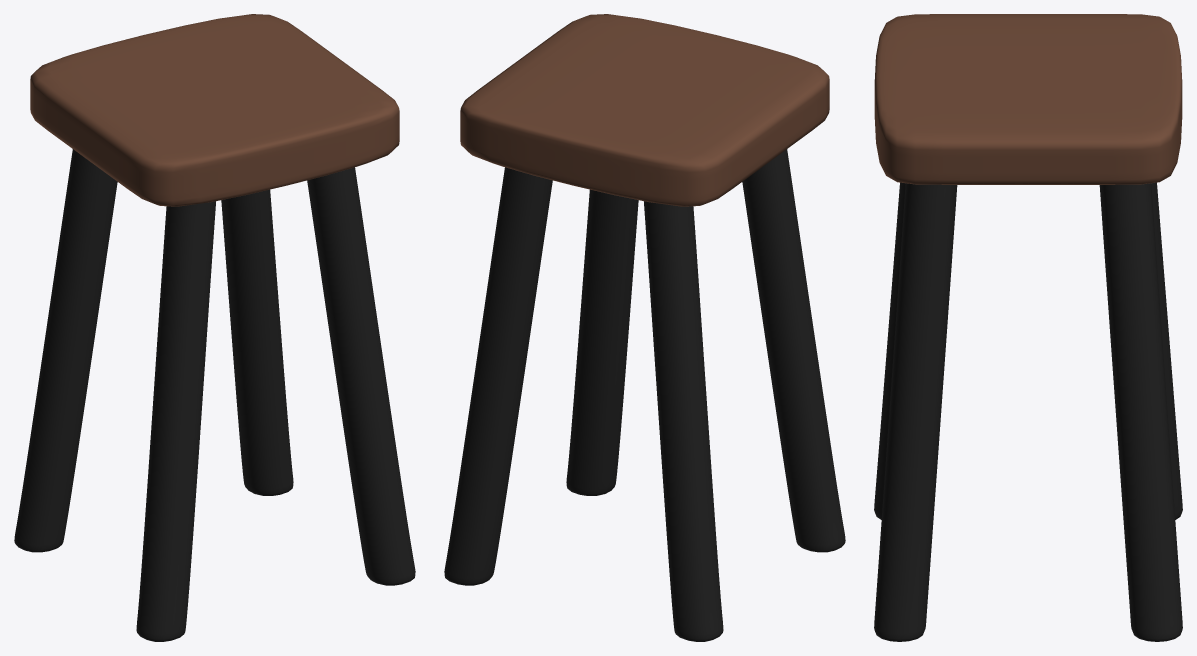
Rendered from Bar_stool.fbx.
The picture shows the model from 3 angles, left to right: view 1: azimuth 30°, elevation 25°; view 2: azimuth 150°, elevation 25°; view 3: azimuth 270°, elevation 25°; orthographic projection. The views are drawn at different scales.
Parts seen in each view (by area): view 1: Bar_stool; view 2: Bar_stool; view 3: Bar_stool.
Boxes of the visible parts, x1,y1,x2,y2 form: Bar_stool: [14, 14, 415, 641]; Bar_stool: [444, 14, 845, 641]; Bar_stool: [874, 14, 1182, 641].
Bounding box in the file's own units: 32.63 × 54.33 × 30.42.
